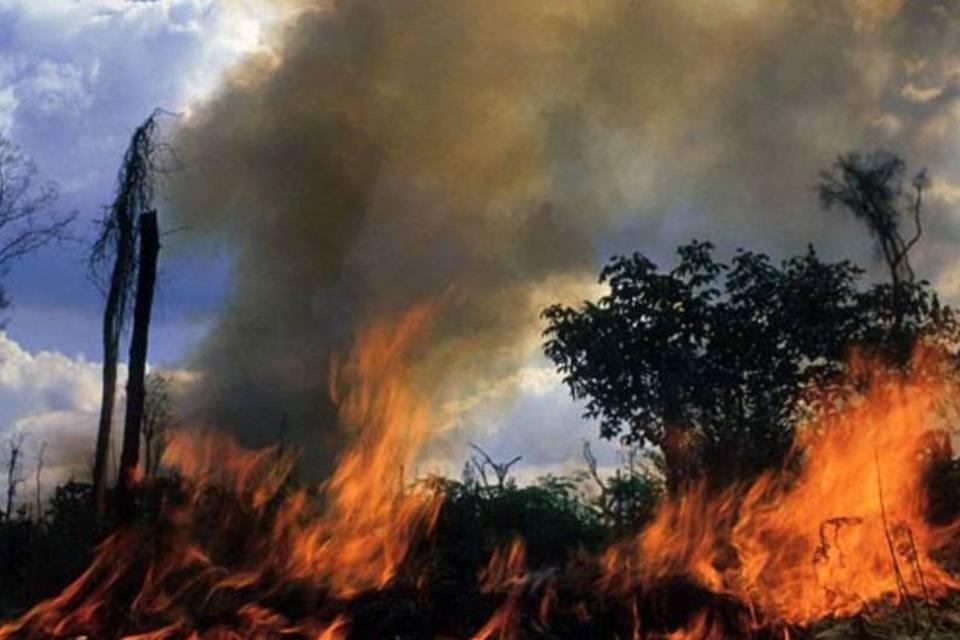smoke: (255, 78, 480, 288)
